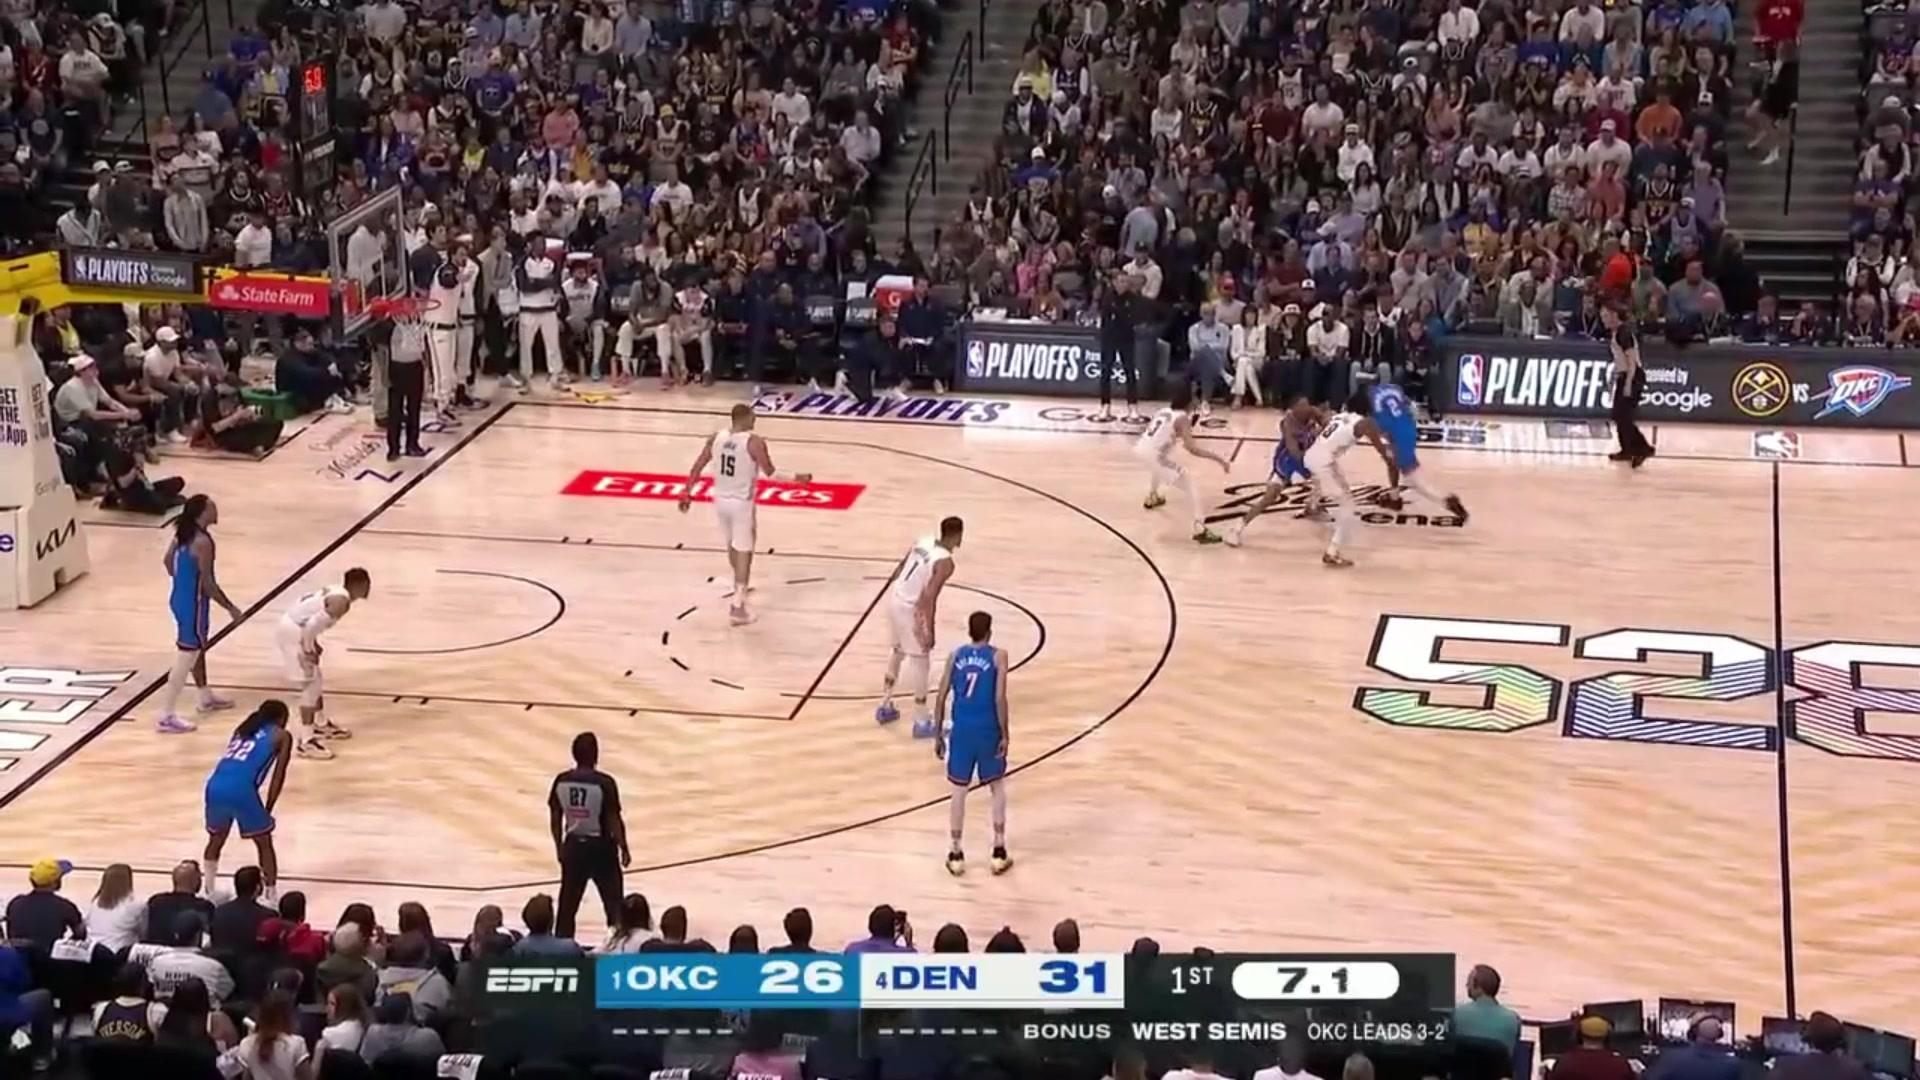foul: (1254, 371, 1393, 568)
